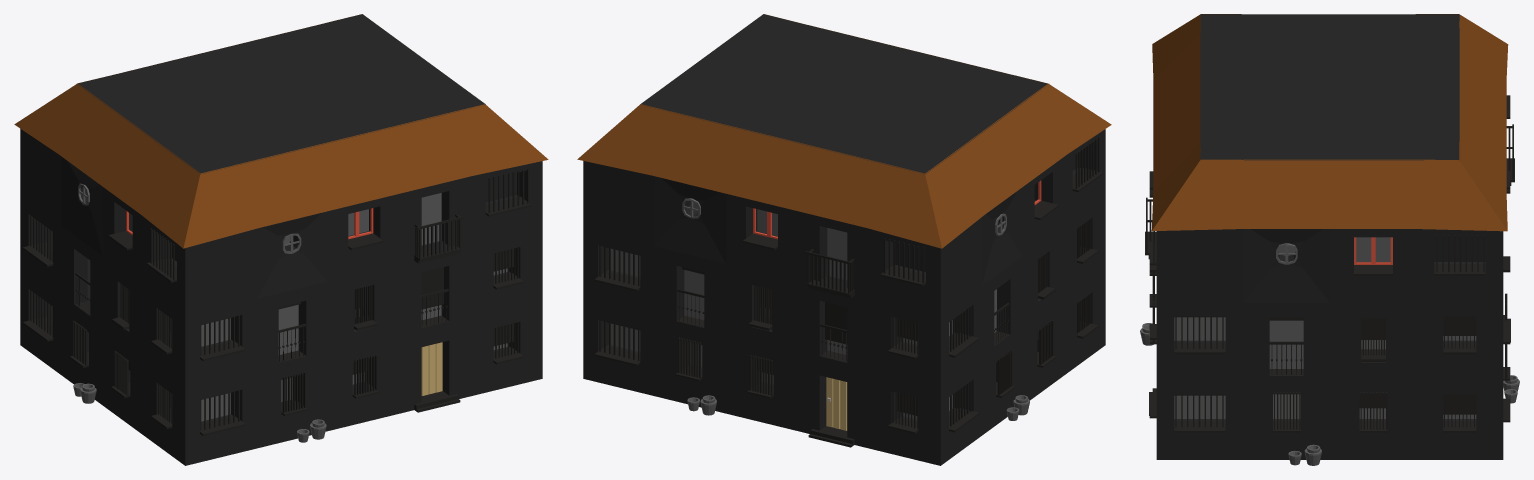
Rendered from CasaProcedural_8.fbx.
3 views of the same model, side by side, from view 1: azimuth 30°, elevation 25°; view 2: azimuth 150°, elevation 25°; view 3: azimuth 270°, elevation 25° (orthographic). The views are drawn at different scales.
Visible parts, largest first — view 1: Procedural_Building; view 2: Procedural_Building; view 3: Procedural_Building.
Boxes of the visible parts, box(x1,y1,x2,y2) form: Procedural_Building: box(14, 14, 548, 465); Procedural_Building: box(577, 14, 1111, 465); Procedural_Building: box(1140, 14, 1519, 465).
Bounding box in the file's own units: 538 × 359 × 438.
